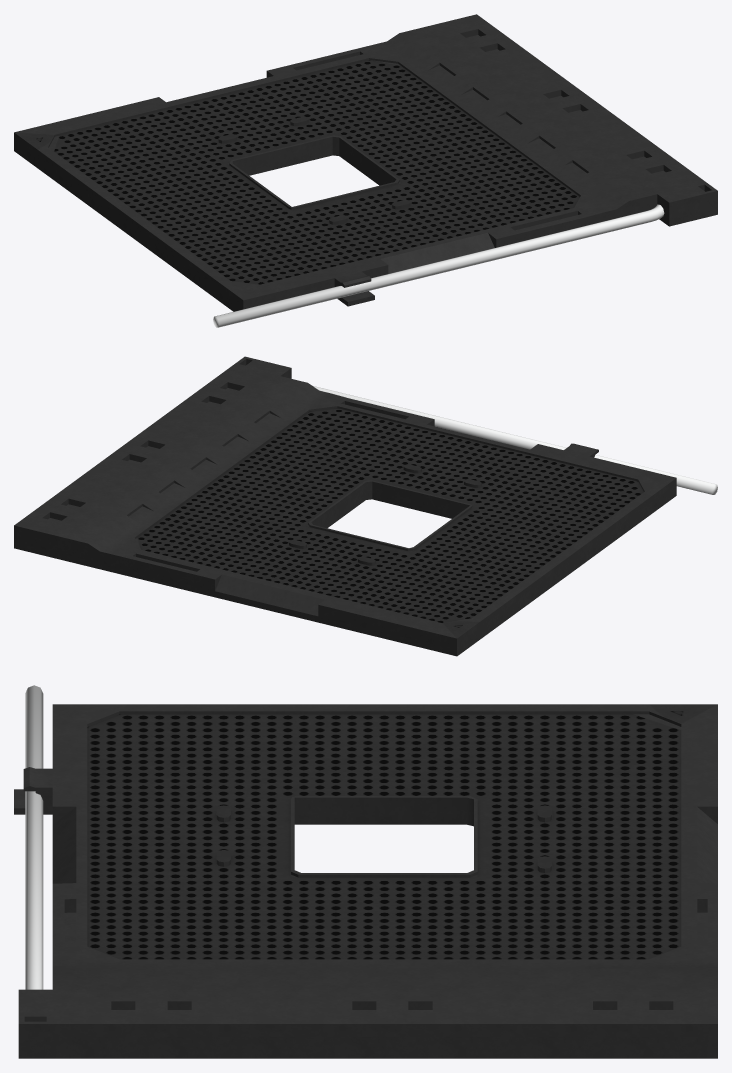
Rendered from cpu-socket.glb.
The picture shows the model from 3 angles, top to bottom: view 1: azimuth 30°, elevation 25°; view 2: azimuth 150°, elevation 25°; view 3: azimuth 270°, elevation 25°; orthographic projection. The views are drawn at different scales.
Parts seen in each view (by area): view 1: CPU.Socket.Upper.LP.003, CPU.Socket.Lever.LP.002, CPU.Socket.Lower.LP.003; view 2: CPU.Socket.Upper.LP.003, CPU.Socket.Lower.LP.003, CPU.Socket.Lever.LP.002; view 3: CPU.Socket.Upper.LP.003, CPU.Socket.Lower.LP.003, CPU.Socket.Lever.LP.002.
Boxes of the visible parts, x1,y1,x2,y2 form: CPU.Socket.Upper.LP.003: (14, 14, 717, 309); CPU.Socket.Lever.LP.002: (213, 204, 664, 327); CPU.Socket.Lower.LP.003: (14, 141, 717, 311); CPU.Socket.Upper.LP.003: (14, 356, 676, 649); CPU.Socket.Lower.LP.003: (14, 486, 676, 656); CPU.Socket.Lever.LP.002: (312, 385, 717, 494); CPU.Socket.Upper.LP.003: (18, 704, 717, 1049); CPU.Socket.Lower.LP.003: (14, 789, 717, 1058); CPU.Socket.Lever.LP.002: (25, 685, 43, 989).
Size of what is drawn, in the model's own units: 0.0548 by 0.00252 by 0.0464.
1 material, 1 textured.
